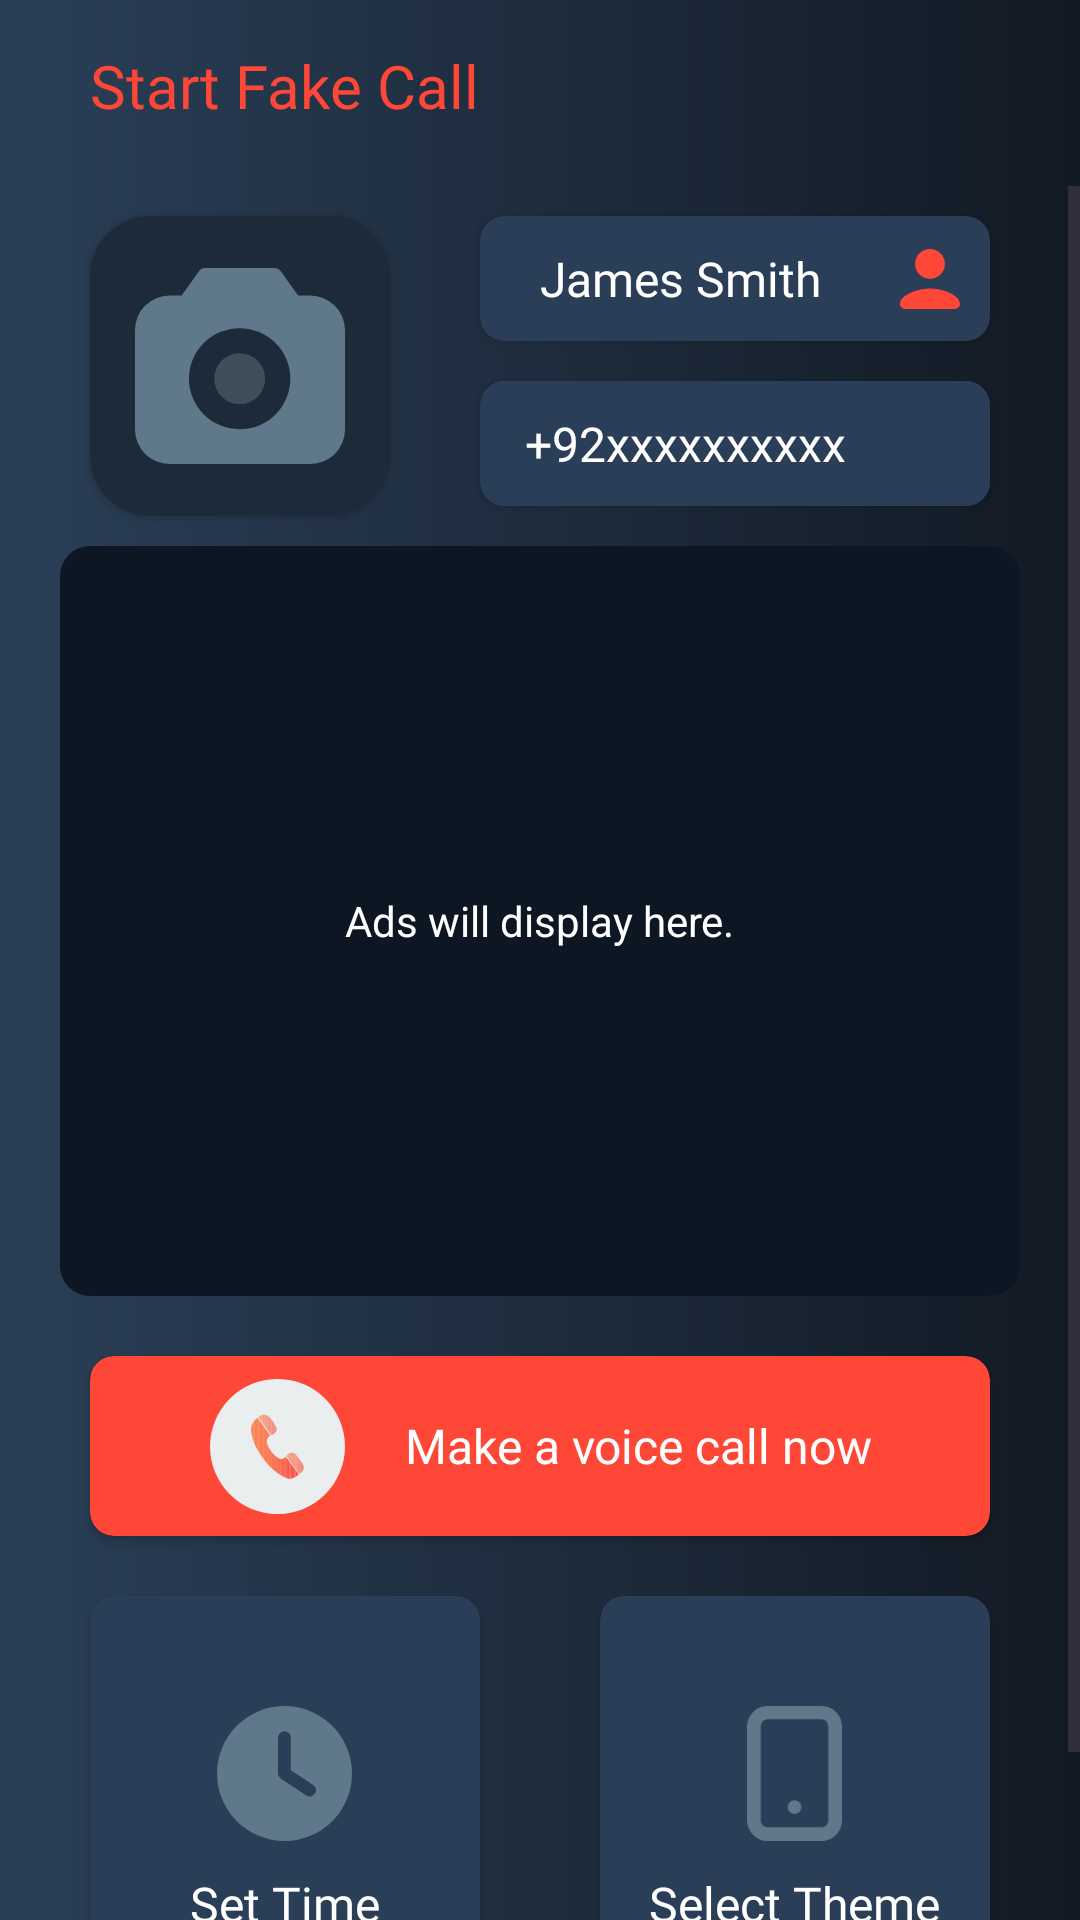

Icon bounding boxes for this 1080 x 1920 phone screenshot, format bbox(x1, y1, x2, y2):
camera: bbox(135, 268, 345, 464)
contact: bbox(900, 249, 960, 309)
phone: bbox(747, 1706, 842, 1841)
phone call: bbox(210, 1379, 345, 1514)
